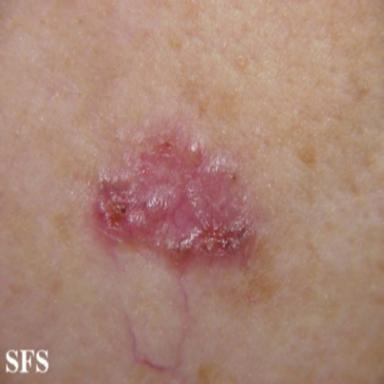basal-cell-carcinoma: (96, 128, 257, 267)
